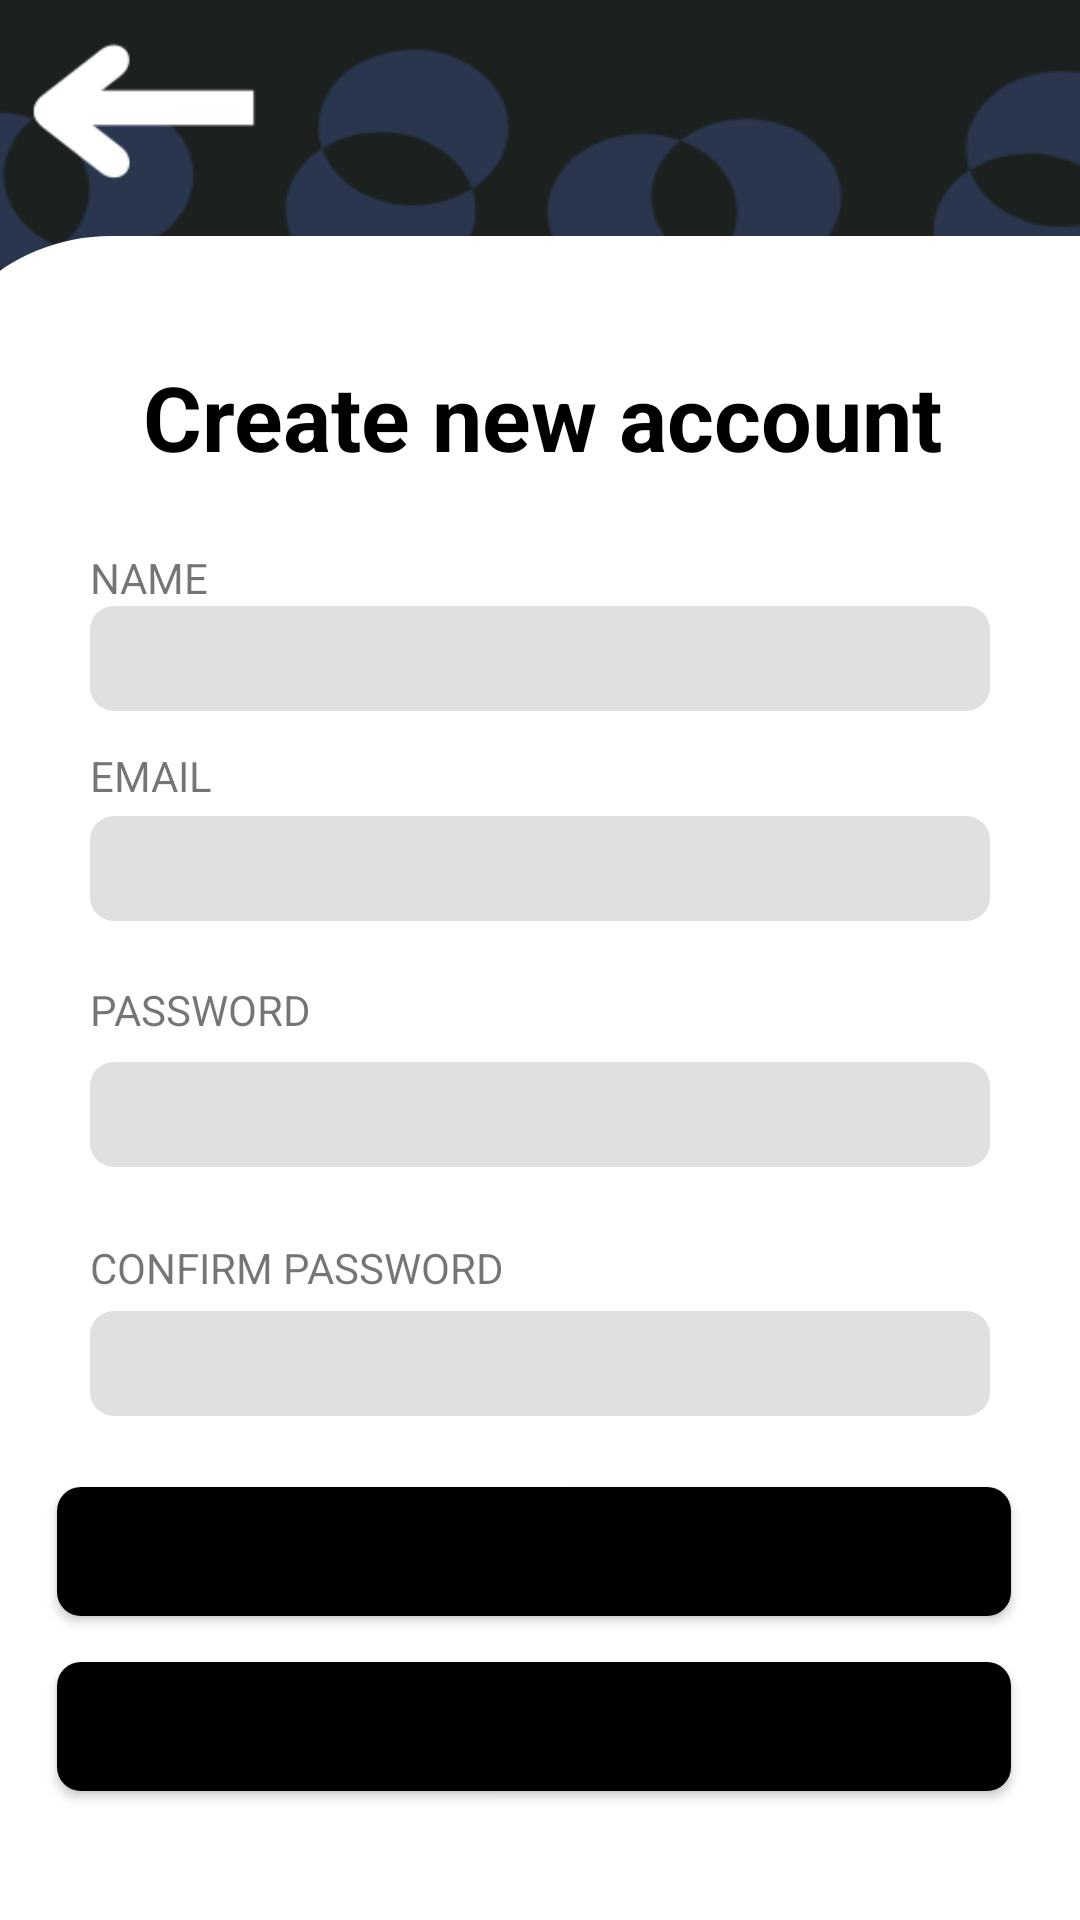

Icons on this 1080w x 1920h Android screen, each with its box as (x1, y1, x2, y2):
backkey: (33, 44, 255, 226)
